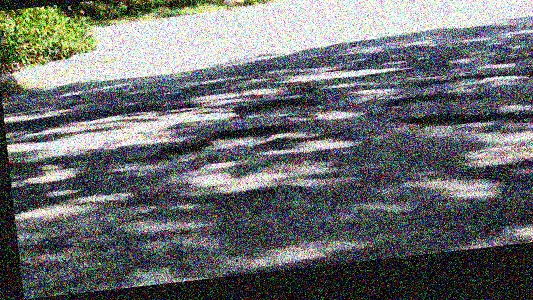pothole: (149, 121, 283, 165), (402, 106, 494, 134), (230, 93, 322, 117)
